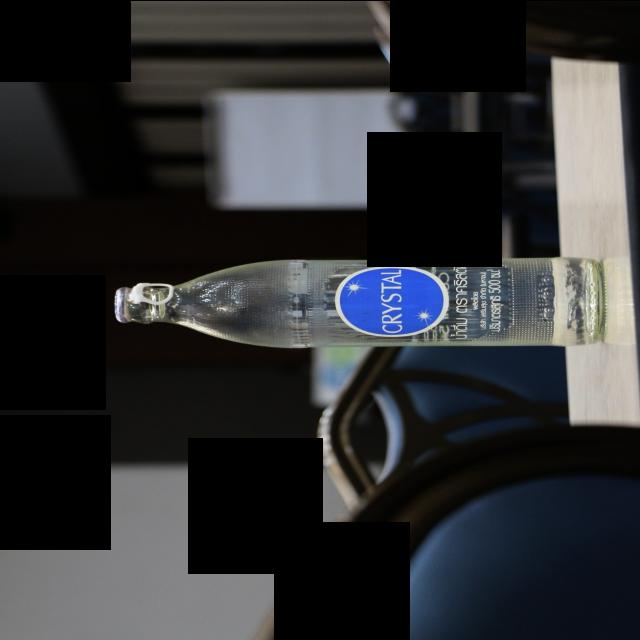glass-bottle: (90, 246, 626, 362)
